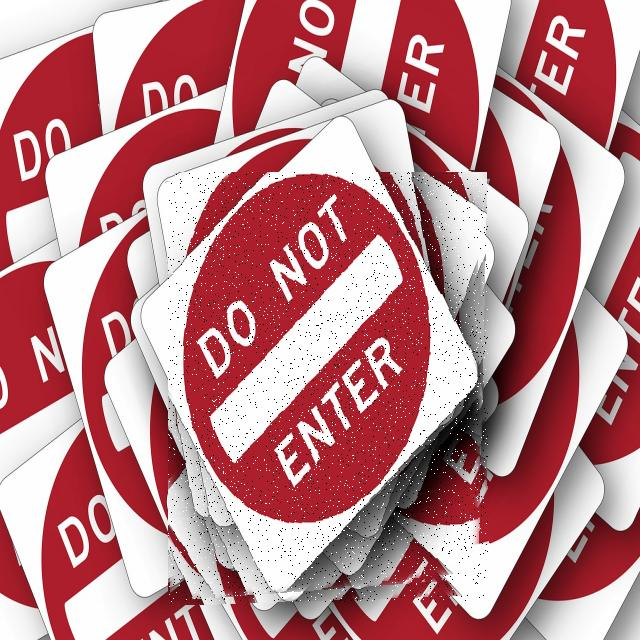no entry: (168, 172, 488, 602)
